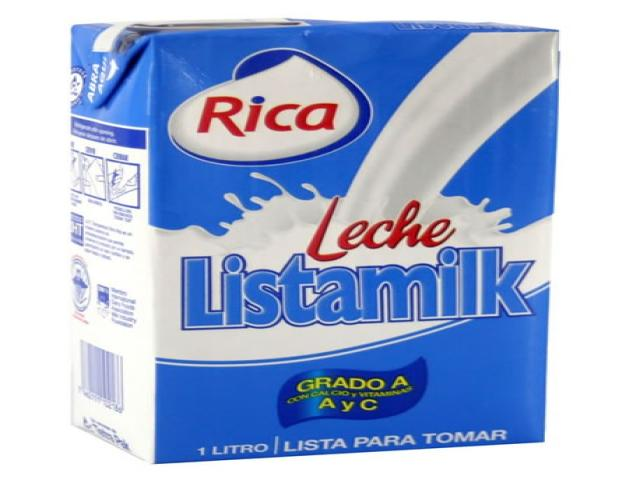drink_box: (56, 11, 560, 469)
